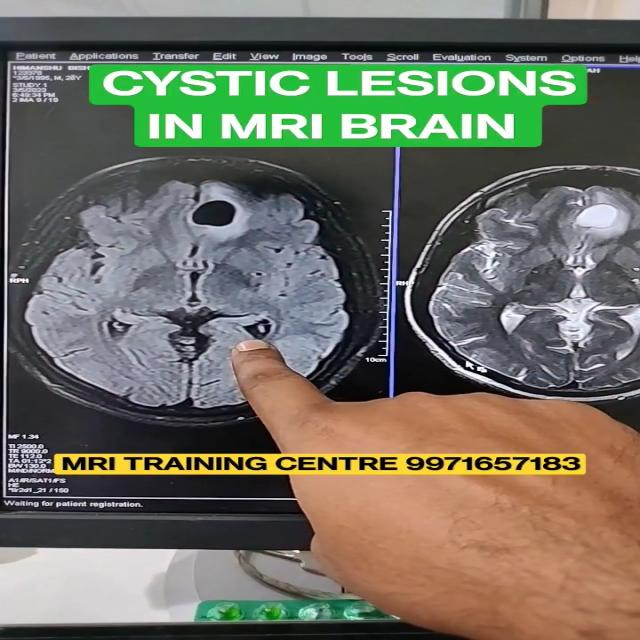tumor: (173, 192, 270, 242), (549, 201, 640, 249)
